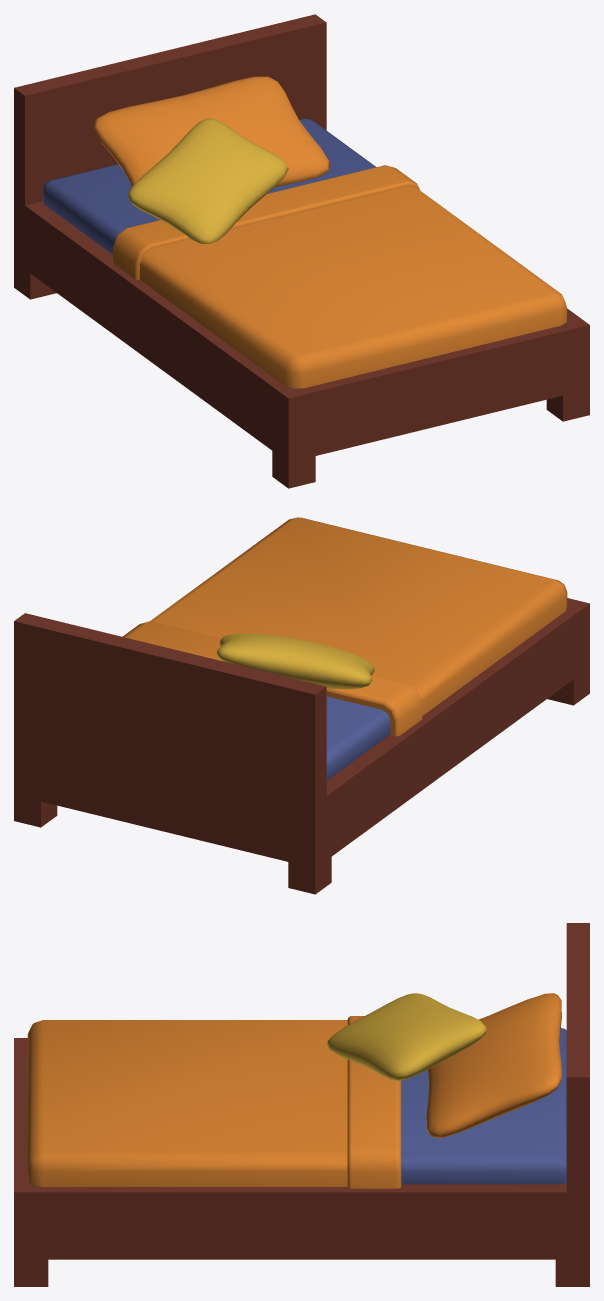
File: bed.glb
3 renders of one model, top to bottom at view 1: azimuth 30°, elevation 25°; view 2: azimuth 150°, elevation 25°; view 3: azimuth 270°, elevation 25°, orthographic. The views are drawn at different scales.
Parts seen in each view (by area): view 1: BedFrame, Sheets, Pillow1, Pillow2, Mattress; view 2: BedFrame, Sheets, Pillow2, Mattress; view 3: Sheets, BedFrame, Mattress, Pillow1, Pillow2.
Boxes of the visible parts, x1,y1,x2,y2 form: BedFrame: (14, 14, 589, 488); Sheets: (112, 165, 566, 388); Pillow1: (93, 76, 330, 186); Pillow2: (127, 118, 288, 243); Mattress: (43, 119, 376, 254); BedFrame: (14, 598, 589, 894); Sheets: (122, 517, 567, 736); Pillow2: (217, 633, 374, 689); Mattress: (326, 696, 390, 780); Sheets: (27, 1016, 401, 1188); BedFrame: (14, 923, 589, 1286); Mattress: (401, 1028, 566, 1184); Pillow1: (426, 993, 561, 1137); Pillow2: (327, 993, 486, 1080).
Size of the model in its own units: 1.72 by 1.09 by 2.72.
